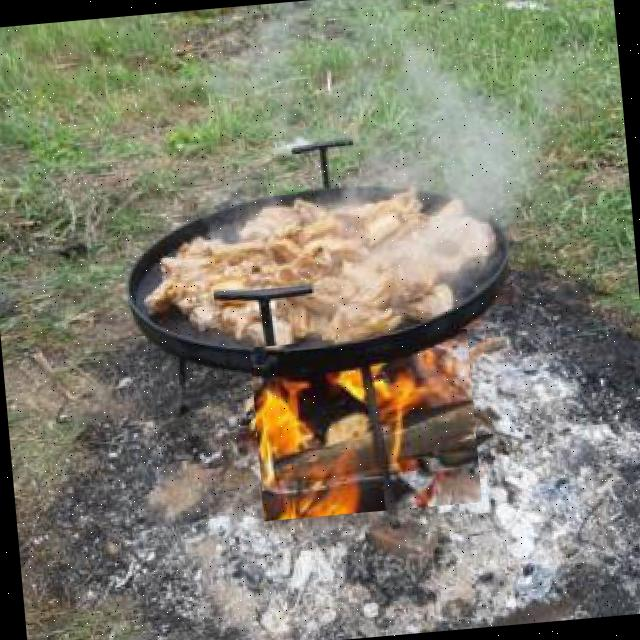fire: (249, 328, 482, 520)
